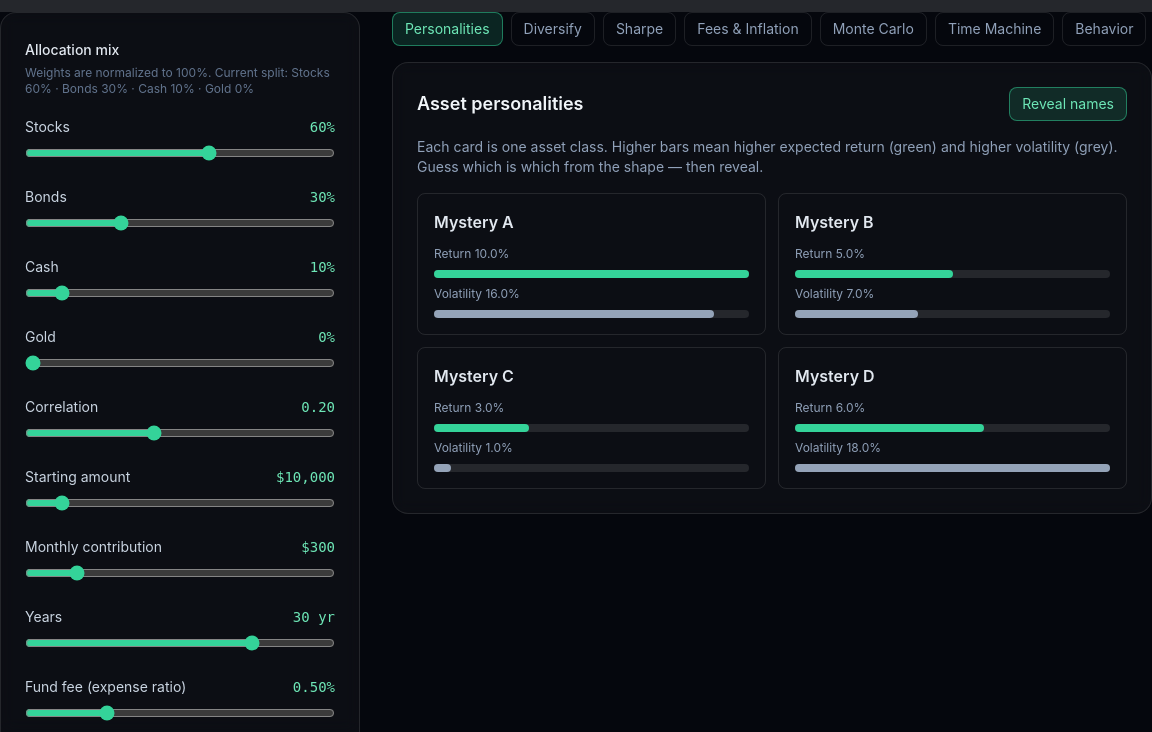
it: PortfolioSandbox — personalities lens (predict-first) › hides asset names until revealed
The image size is (1152, 732).
expect the text "Mystery A" is shown: met, box 434,212 -> 514,232
Click the button "Reveal names": coordinates (1068, 104) 1009,87 -> 1127,121
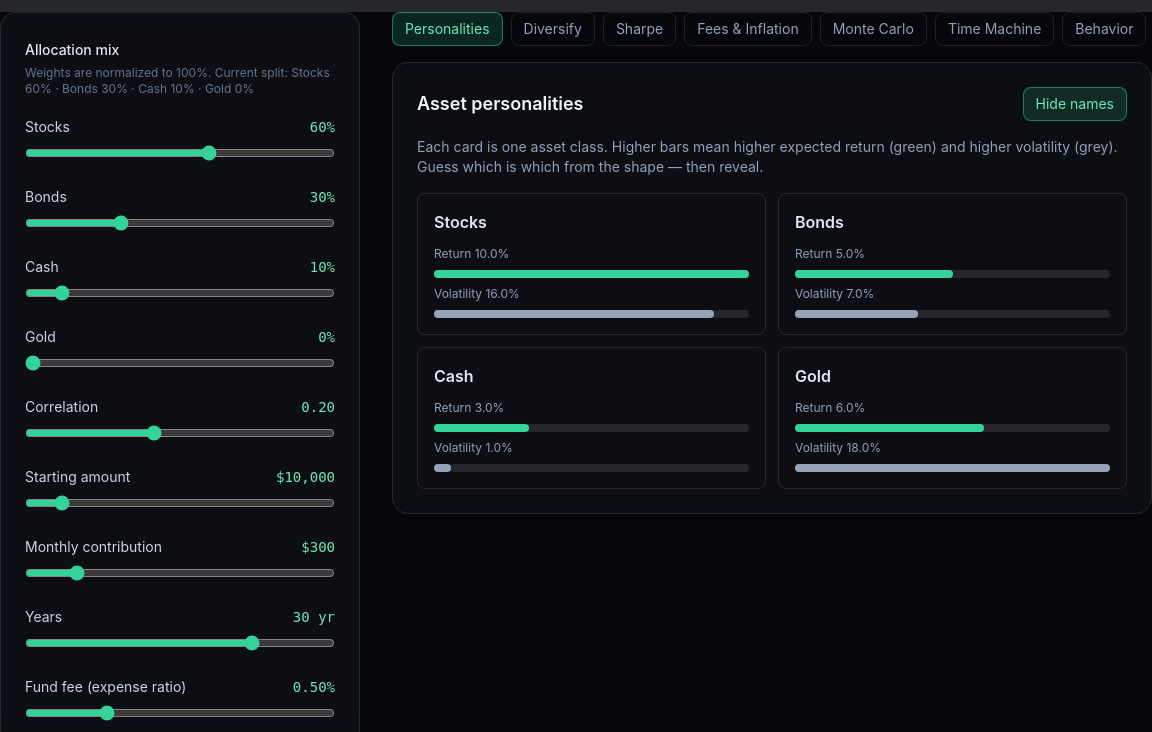
expect the text "Mystery A" is gone: met
expect the button "Hide names" is shown: met, box 1023,87 -> 1127,121
